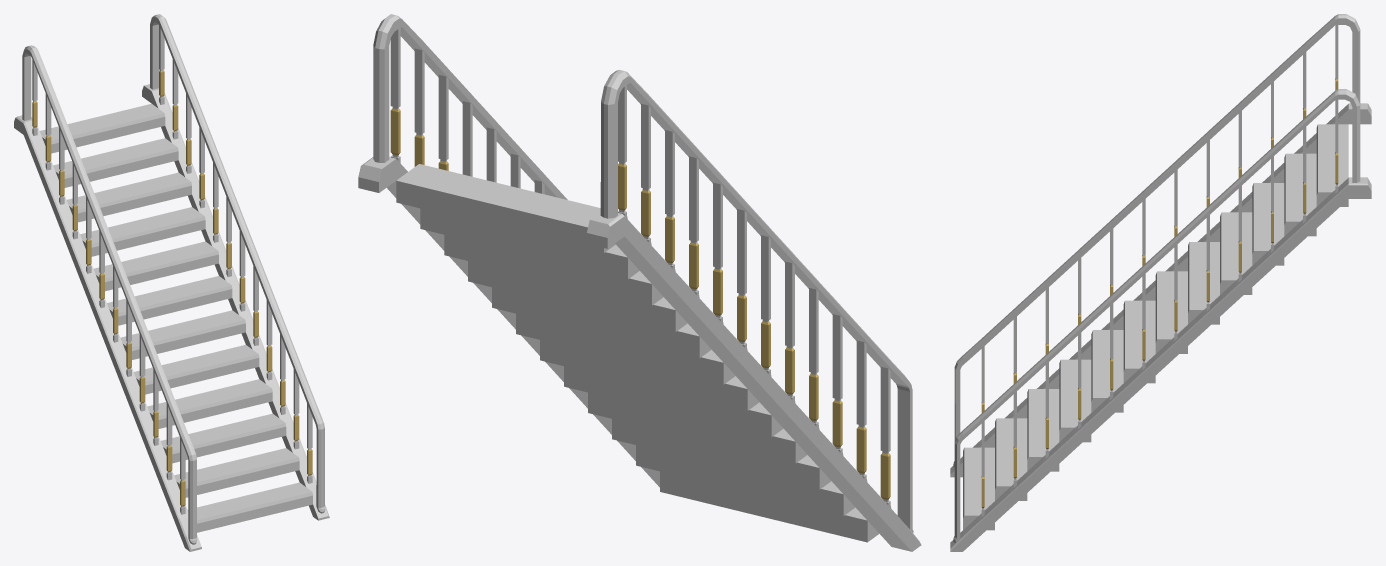
Rendered from escalier.fbx.
3 views of the same model, side by side, from view 1: azimuth 30°, elevation 25°; view 2: azimuth 150°, elevation 25°; view 3: azimuth 270°, elevation 25° (orthographic). The views are drawn at different scales.
Parts seen in each view (by area): view 1: stairs; view 2: stairs; view 3: stairs.
Boxes of the visible parts, left/top/right/bottom form: stairs: left=14, top=14, right=329, bottom=551; stairs: left=358, top=14, right=921, bottom=551; stairs: left=950, top=14, right=1371, bottom=551.
Bounding box in the file's own units: 0.0999 × 0.262 × 0.218.
